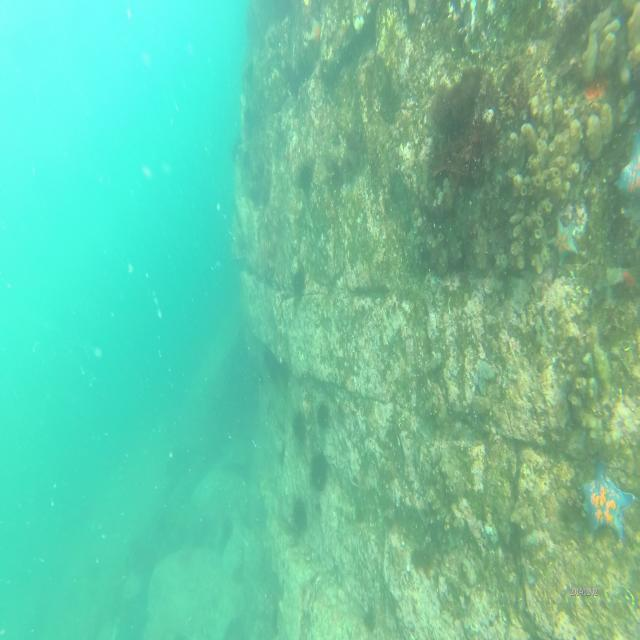echinus: (309, 450, 329, 493), (290, 495, 306, 533), (292, 406, 307, 443), (298, 164, 314, 196), (291, 267, 307, 294), (316, 401, 329, 431)
starfish: (579, 465, 638, 539), (615, 130, 640, 208), (547, 216, 581, 263)
